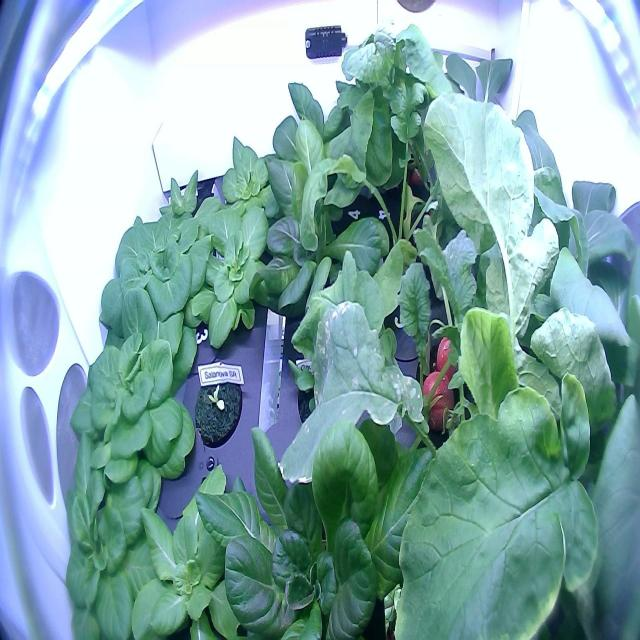germination: (191, 352, 246, 453)
young: (193, 410, 453, 640), (244, 164, 407, 348), (57, 307, 198, 519), (123, 458, 281, 640), (49, 432, 183, 639), (246, 72, 386, 235), (91, 198, 216, 376), (176, 195, 296, 354), (204, 126, 287, 225), (152, 162, 208, 232)
